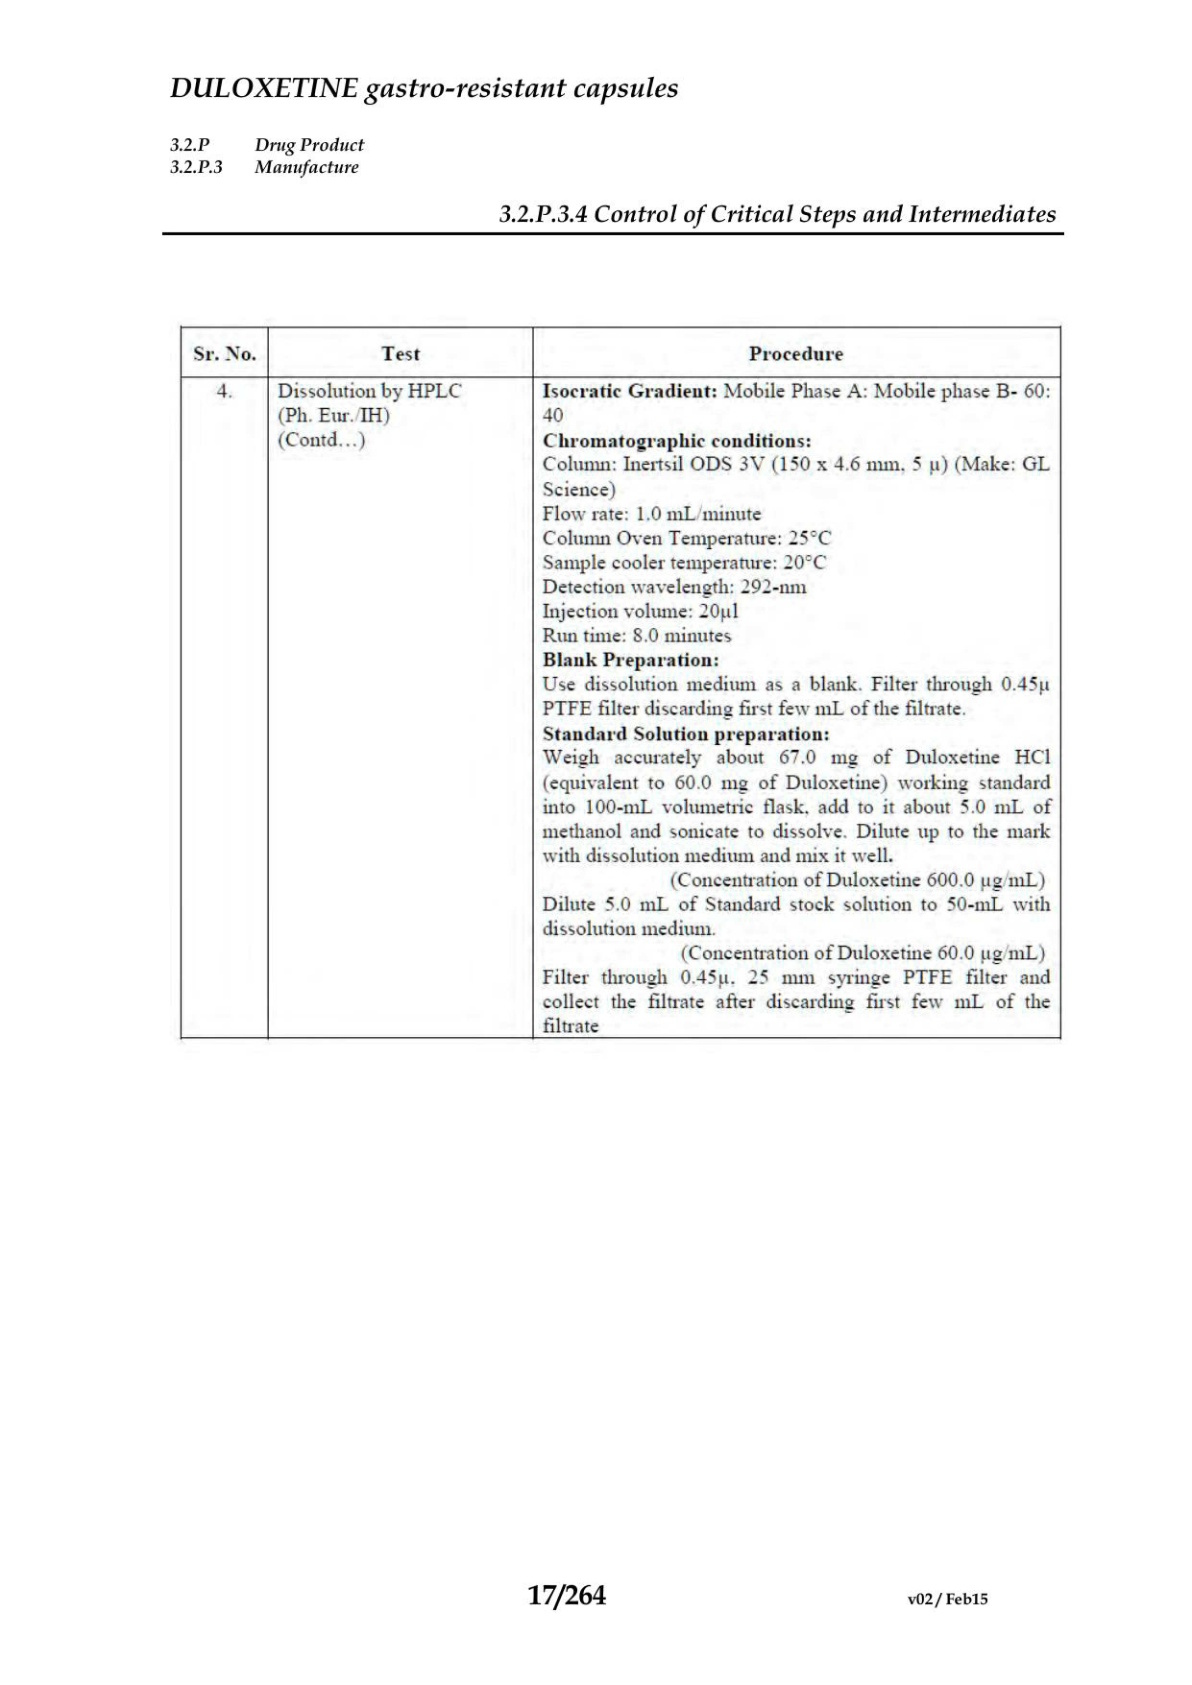full_lined: (181, 326, 1063, 1040)
